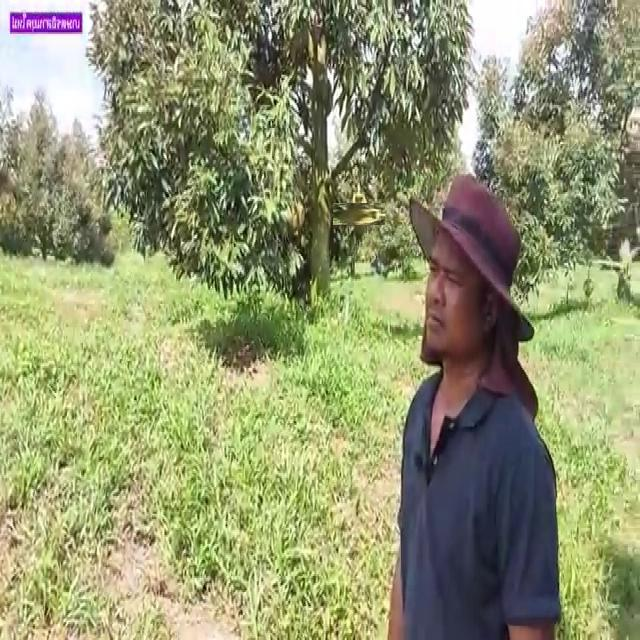durian: (340, 195, 377, 233)
